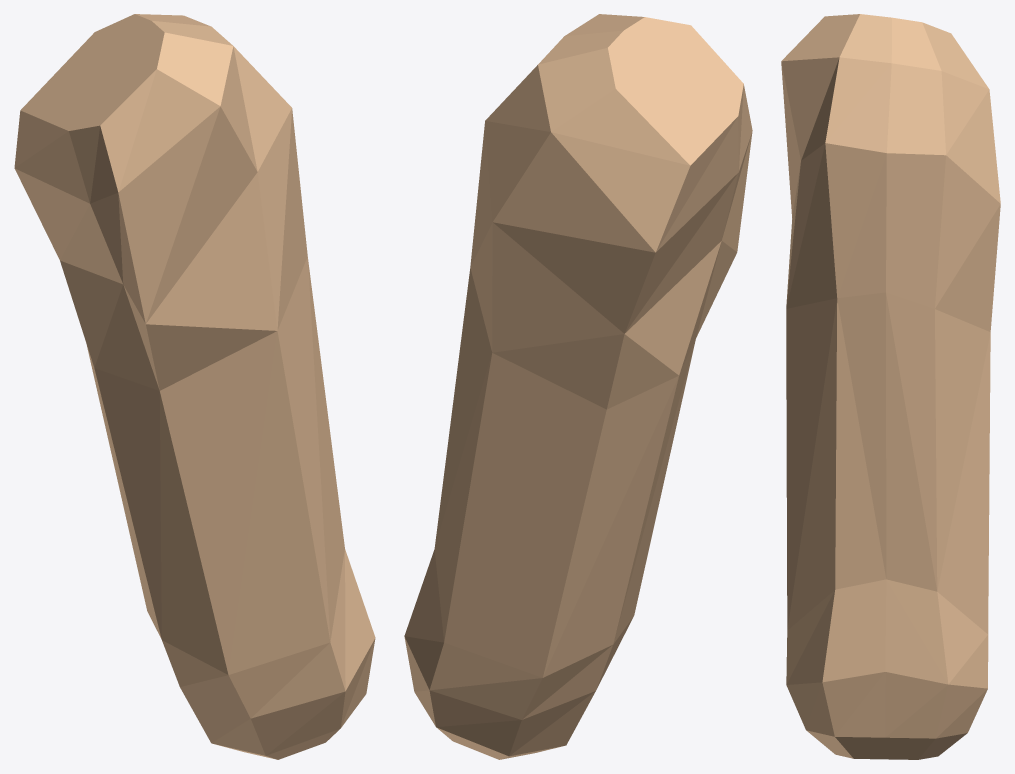
Rendered from LFing20_mesh.dae.
3 views of the same model, side by side, from view 1: azimuth 30°, elevation 25°; view 2: azimuth 150°, elevation 25°; view 3: azimuth 270°, elevation 25° (orthographic). The views are drawn at different scales.
Parts seen in each view (by area): view 1: LFing20; view 2: LFing20; view 3: LFing20.
Part boxes in pixels (bbox=[...]): LFing20: bbox=[14, 14, 375, 759]; LFing20: bbox=[404, 14, 752, 759]; LFing20: bbox=[781, 14, 1000, 759].
Bounding box in the file's own units: 0.0285 × 0.0708 × 0.0204.
